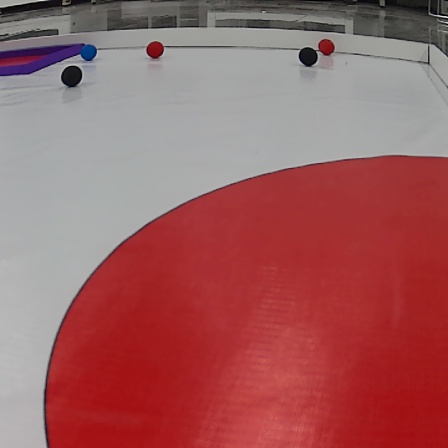black: (61, 66, 84, 85), (299, 47, 317, 66)
blue: (78, 43, 97, 61)
red: (314, 37, 336, 56), (146, 41, 164, 61)
red_aim: (2, 41, 86, 76)
red_base: (47, 154, 446, 447)
